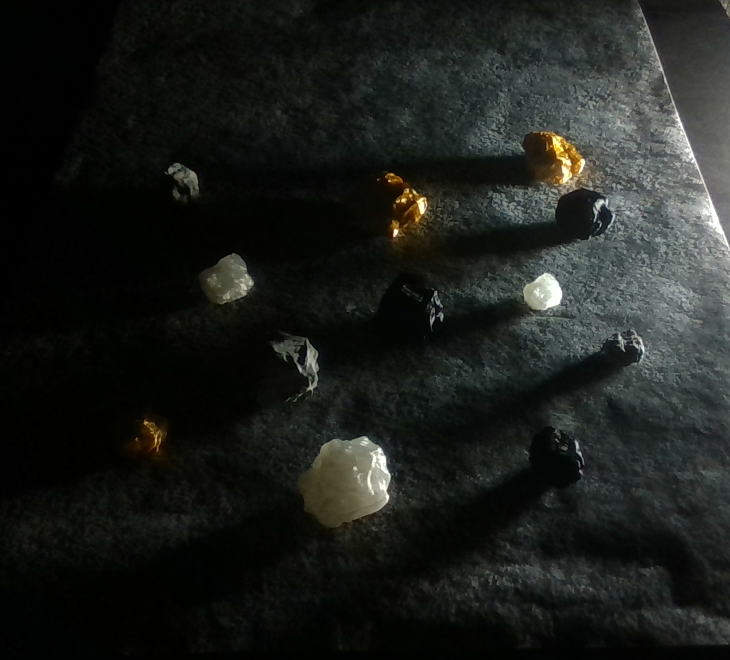anorthosite: (298, 437, 391, 528), (200, 253, 254, 305), (524, 274, 561, 310)
basalt: (373, 271, 444, 346), (529, 426, 584, 487), (555, 188, 614, 238)
metal: (342, 171, 427, 239), (521, 131, 585, 185), (110, 404, 168, 459)
regolith: (249, 330, 318, 409), (158, 162, 199, 208), (602, 327, 643, 367)
